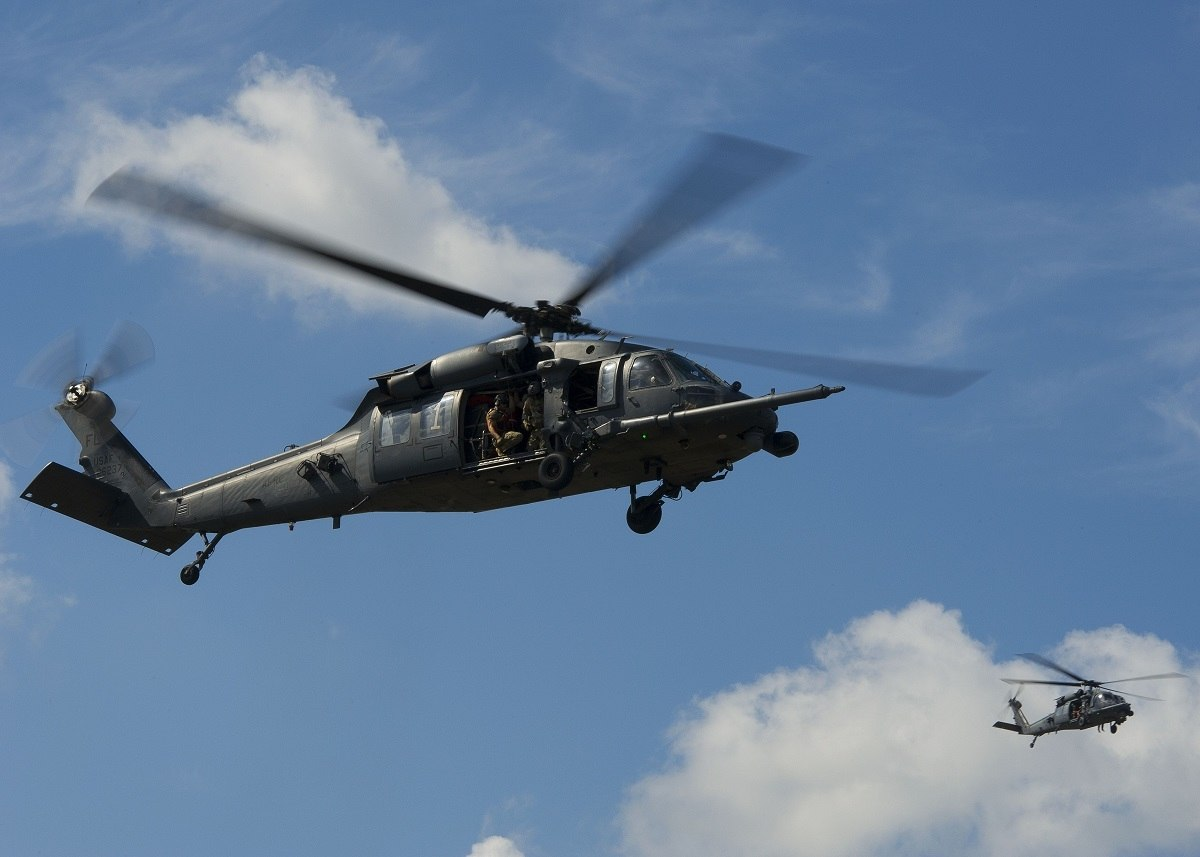MilitaryHelicopter: (46, 247, 854, 584), (1001, 663, 1176, 744)
